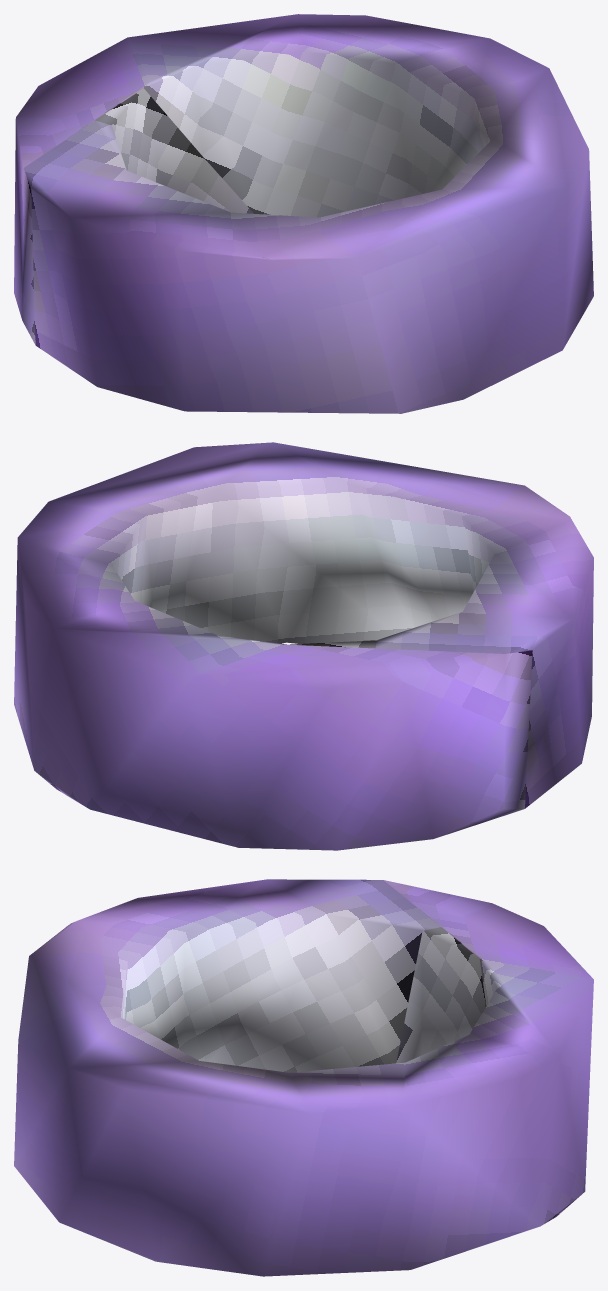
File: Shurtape_30_Day_Removal_UV_Delct_15-low.glb
3 renders of one model, top to bottom at view 1: azimuth 30°, elevation 25°; view 2: azimuth 150°, elevation 25°; view 3: azimuth 270°, elevation 25°, orthographic.
Visible parts, largest first — view 1: Shurtape_30_Day_Removal_UV_Delct_15; view 2: Shurtape_30_Day_Removal_UV_Delct_15; view 3: Shurtape_30_Day_Removal_UV_Delct_15.
Boxes of the visible parts, x1,y1,x2,y2 form: Shurtape_30_Day_Removal_UV_Delct_15: [14, 14, 593, 413]; Shurtape_30_Day_Removal_UV_Delct_15: [14, 442, 593, 850]; Shurtape_30_Day_Removal_UV_Delct_15: [14, 879, 593, 1276].
Size of the model in its own units: 0.1158 by 0.0379 by 0.1156.
Materials: 1 (1 with a texture image).
